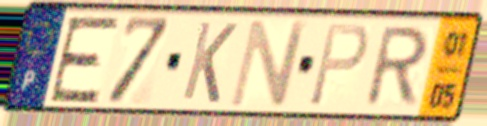7: (106, 13, 174, 107)
E: (45, 14, 124, 105)
K: (178, 18, 241, 107)
N: (226, 17, 312, 110)
P: (305, 21, 372, 110)
R: (360, 24, 433, 110)
